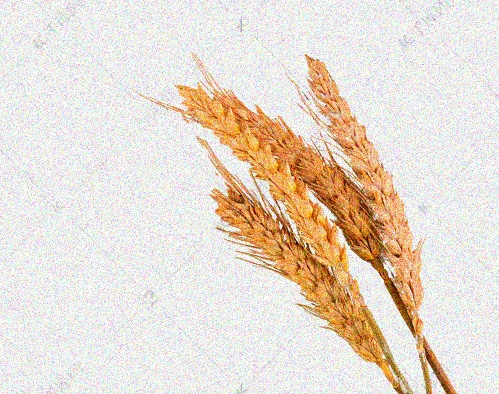wheat: (218, 185, 391, 383), (185, 79, 376, 256), (314, 48, 424, 307)
